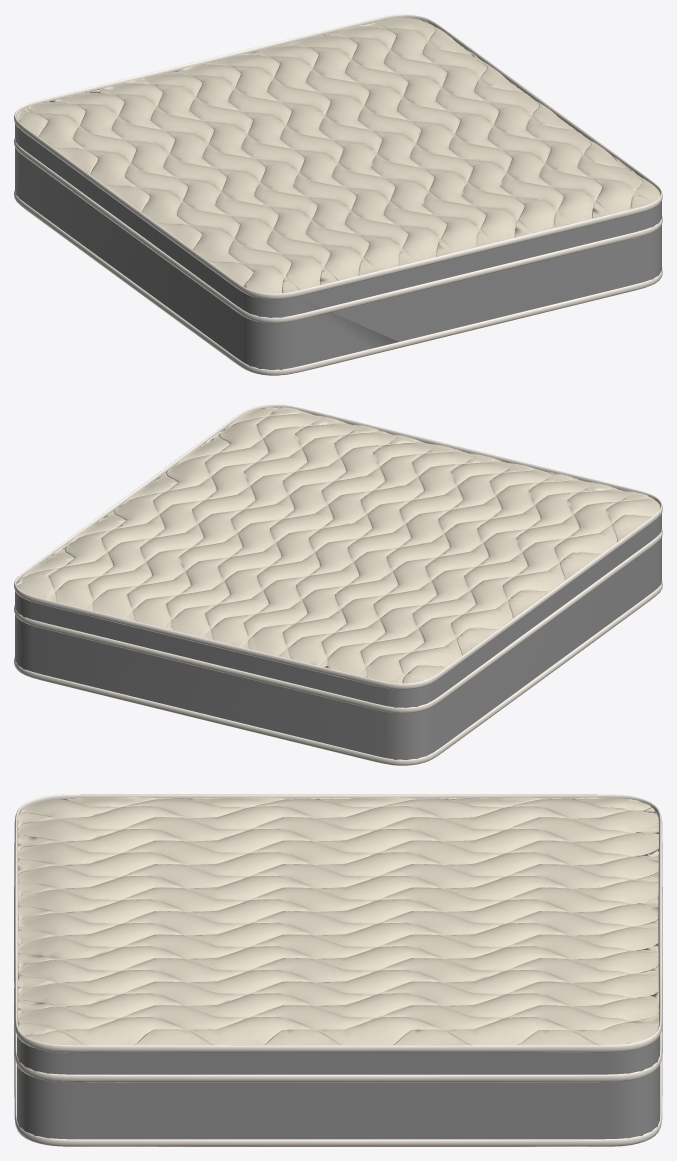
The model's file is bed_o.glb.
3 views of the same model, one above another, from view 1: azimuth 30°, elevation 25°; view 2: azimuth 150°, elevation 25°; view 3: azimuth 270°, elevation 25° (orthographic). The views are drawn at different scales.
Visible parts, largest first — view 1: sec1, group3_pCylinder2; view 2: sec1, group3_pCylinder2; view 3: sec1, group3_pCylinder2.
Boxes of the visible parts, x1,y1,x2,y2 form: sec1: [14, 14, 662, 299]; group3_pCylinder2: [14, 124, 662, 375]; sec1: [14, 404, 662, 689]; group3_pCylinder2: [14, 514, 662, 765]; sec1: [14, 794, 662, 1052]; group3_pCylinder2: [14, 955, 662, 1146].
Size of the model in its own units: 2.53 by 0.5375 by 2.74.
6 materials, 3 textured.
